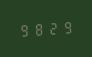eight: (32, 20, 45, 37)
nine: (60, 18, 73, 35), (18, 21, 31, 37)
two: (46, 19, 59, 36)
